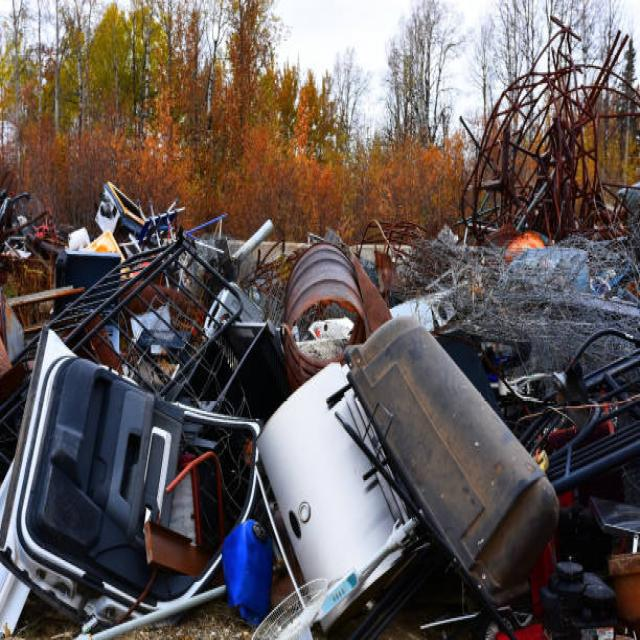metal: (264, 240, 536, 587), (56, 215, 254, 376)
